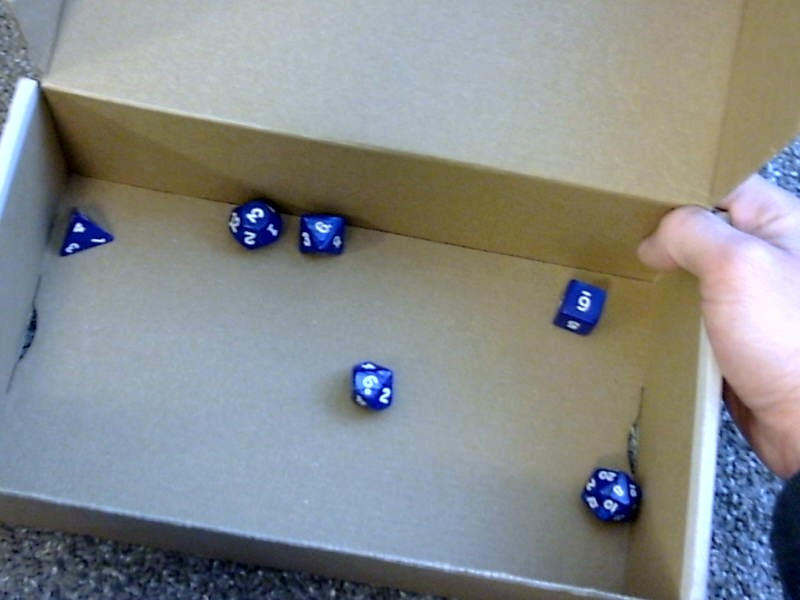d10 6: (343, 354, 397, 417)
d12 3: (222, 186, 286, 253)
d20 8: (581, 460, 645, 528)
d4 4: (57, 200, 116, 264)
d6 6: (548, 275, 605, 337)
d8 6: (293, 203, 348, 259)
